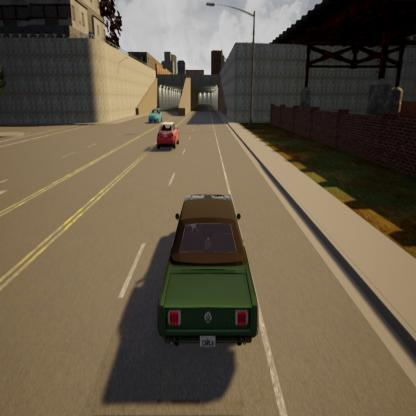Cars: (156, 194, 259, 350), (154, 120, 182, 150), (148, 107, 162, 123)
